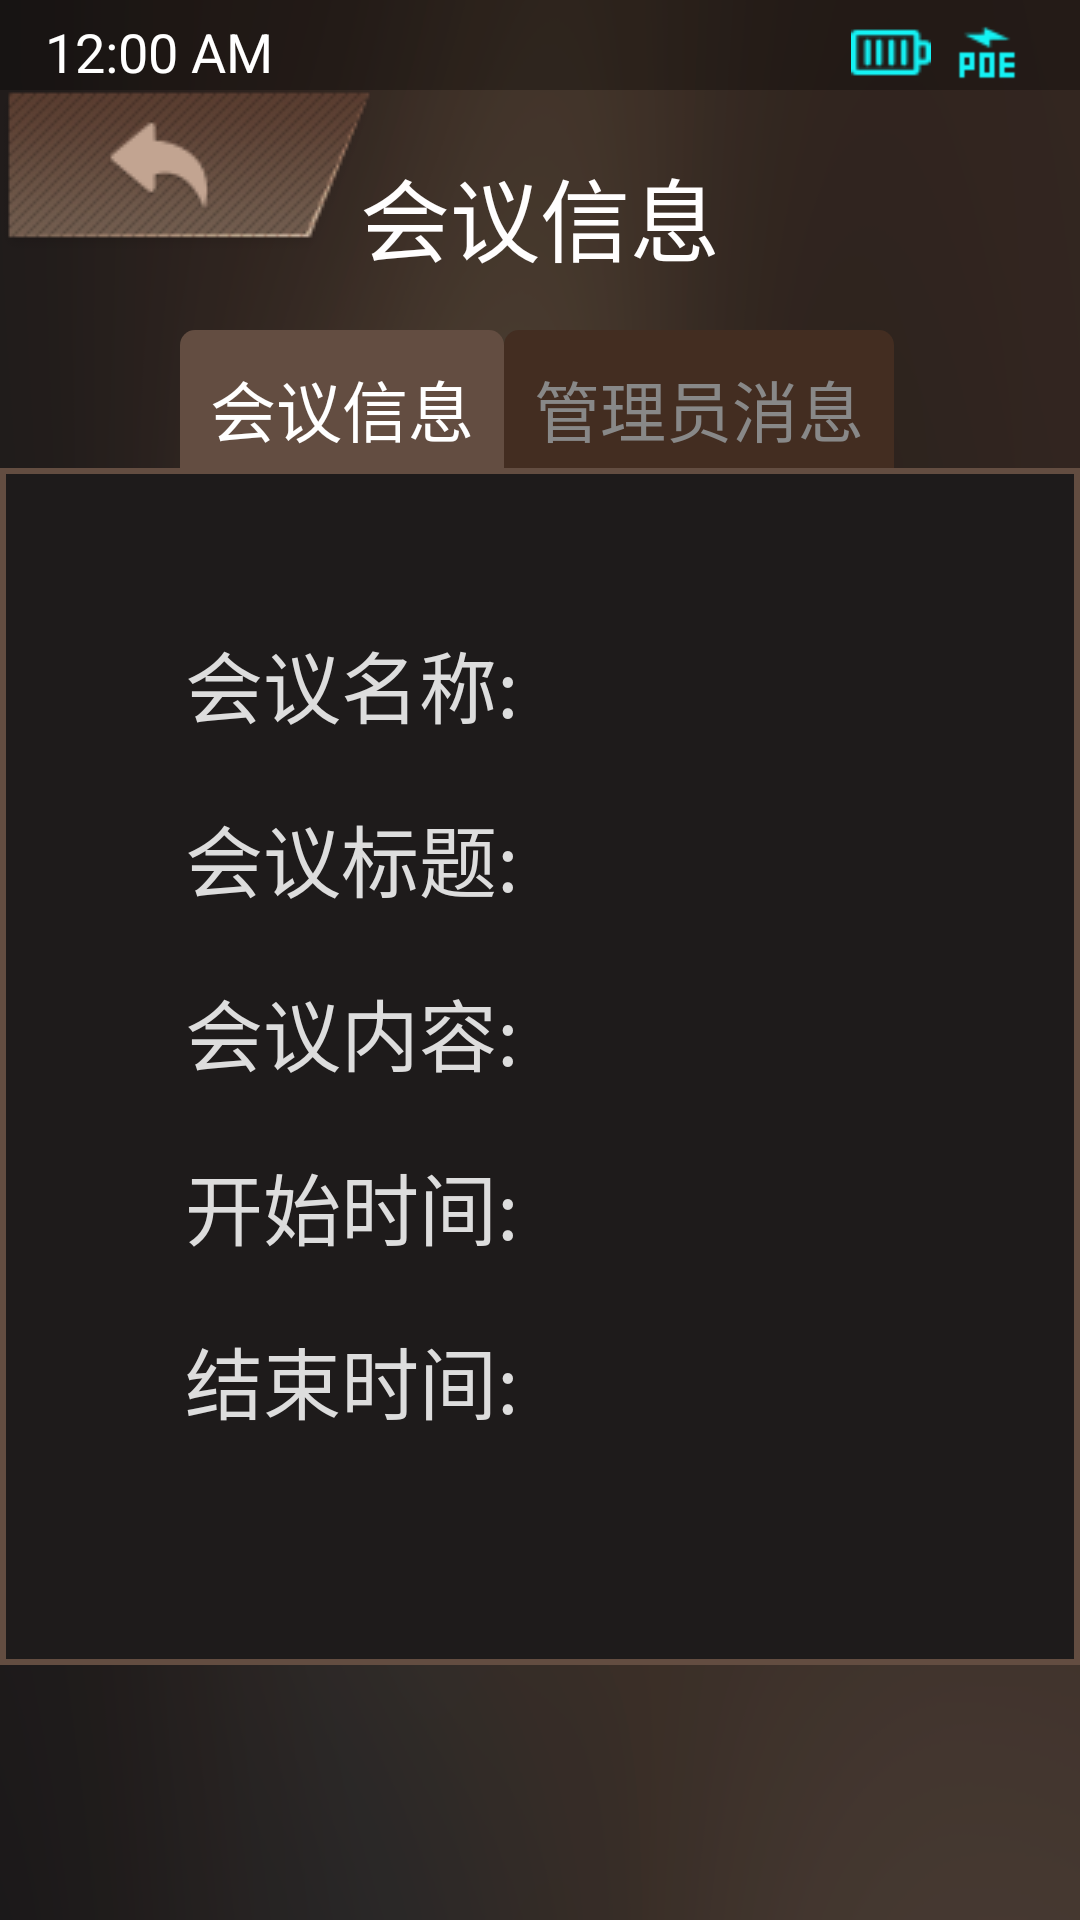

Screen size 1080w x 1920h. Icon name, then its center in pixels as [x,y]:
battery level list: [891,52]
